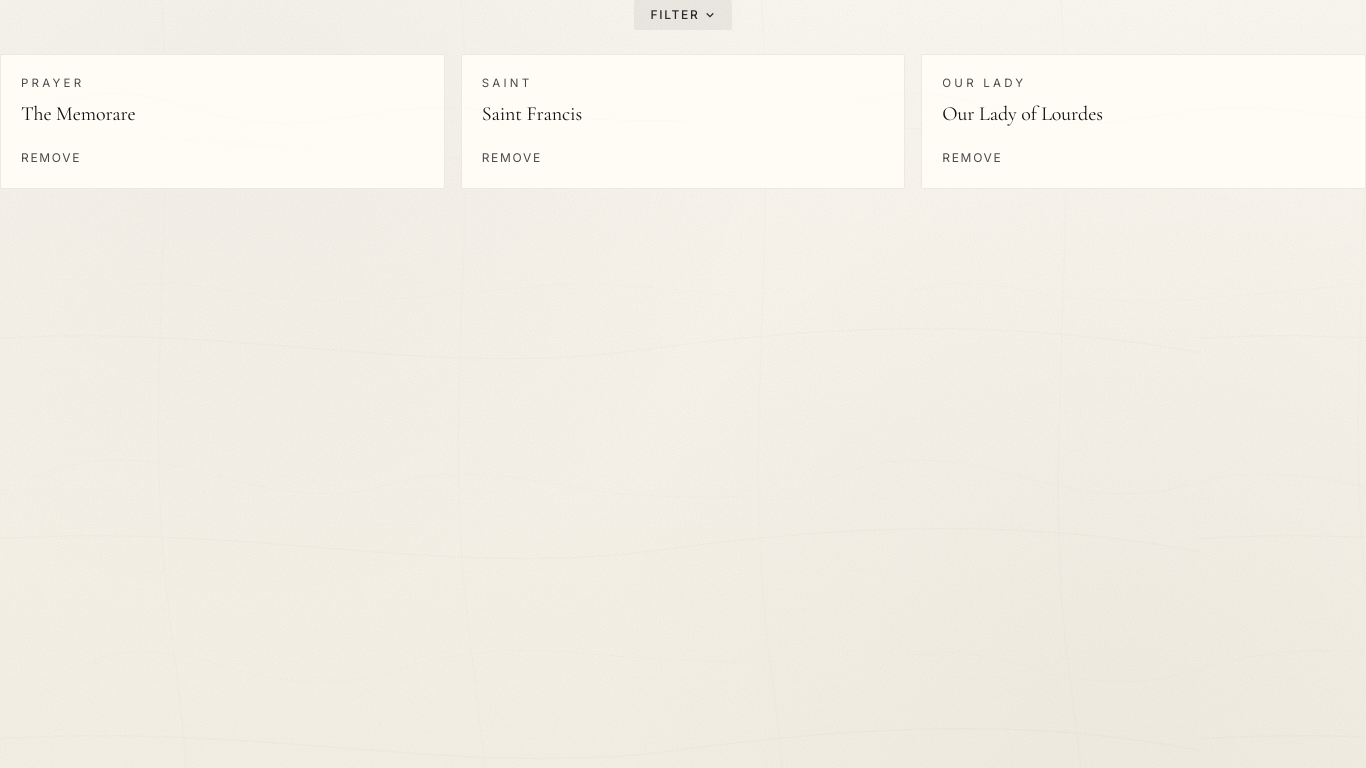
Test: FavoritesBrowser › filters to a single content type when its chip is selected
Click the button with aria-label "Filter favorites by type". click: (683, 15)
box: [634,0,732,30]
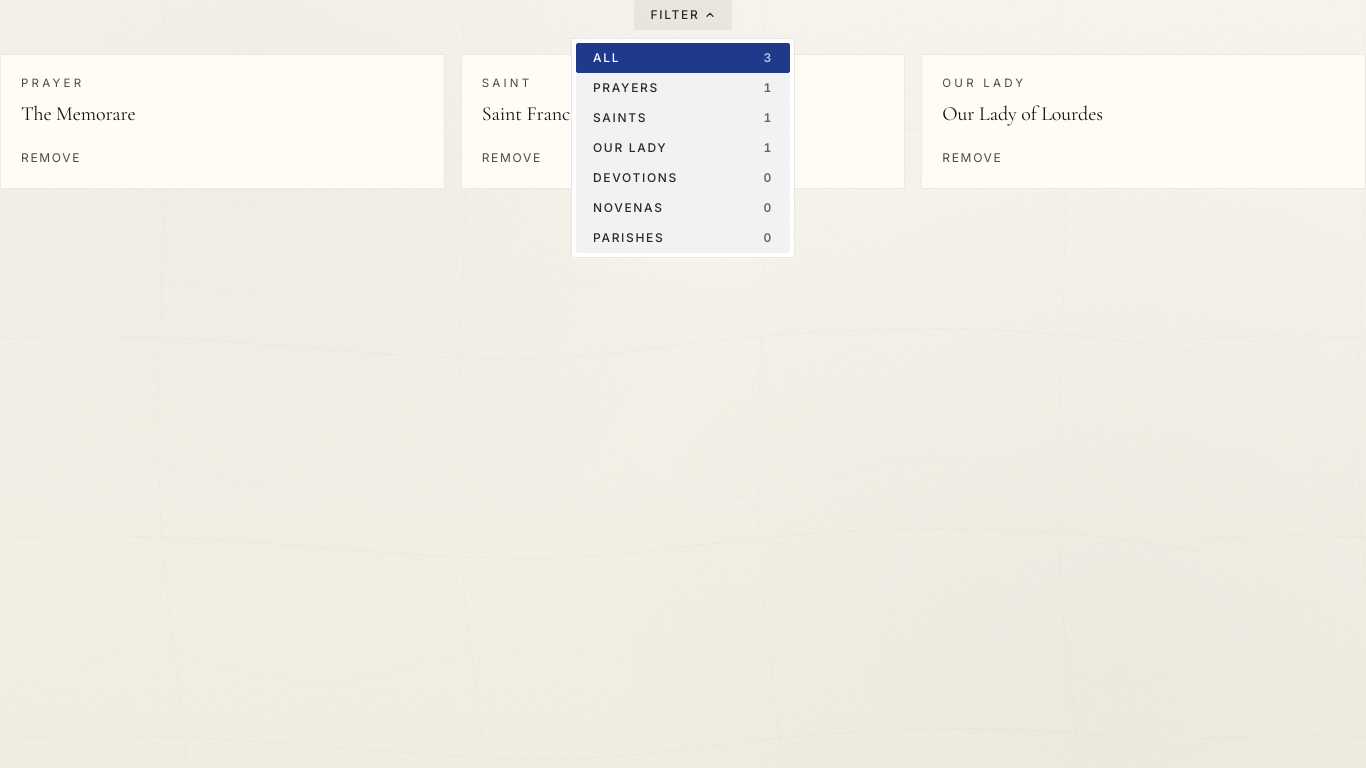
Click the option "Saints 1". click: (683, 118)
box: [576,103,790,133]
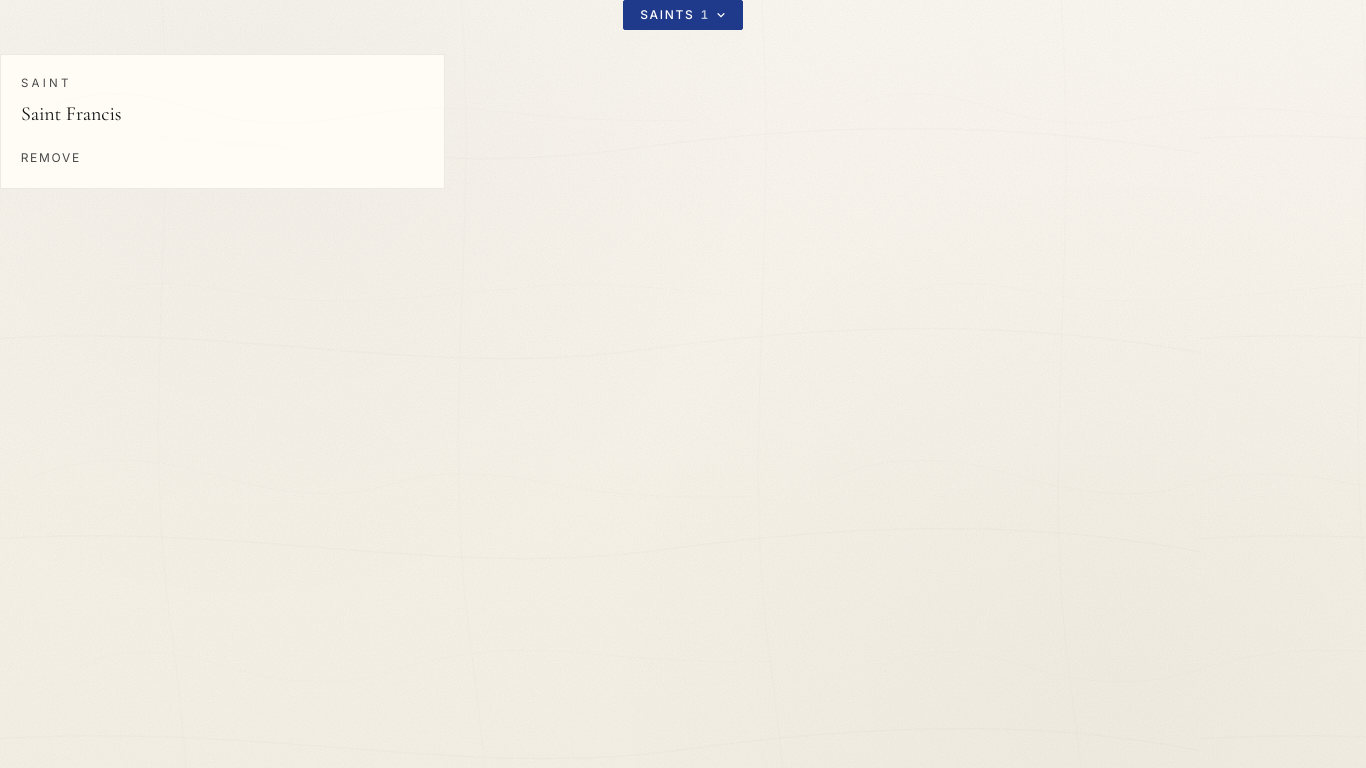
Expected: the heading "Saint Francis" is shown, [21,102,121,126]
Now the link "The Memorare" is gone
Now the link "Our Lady of Lourdes" is gone
